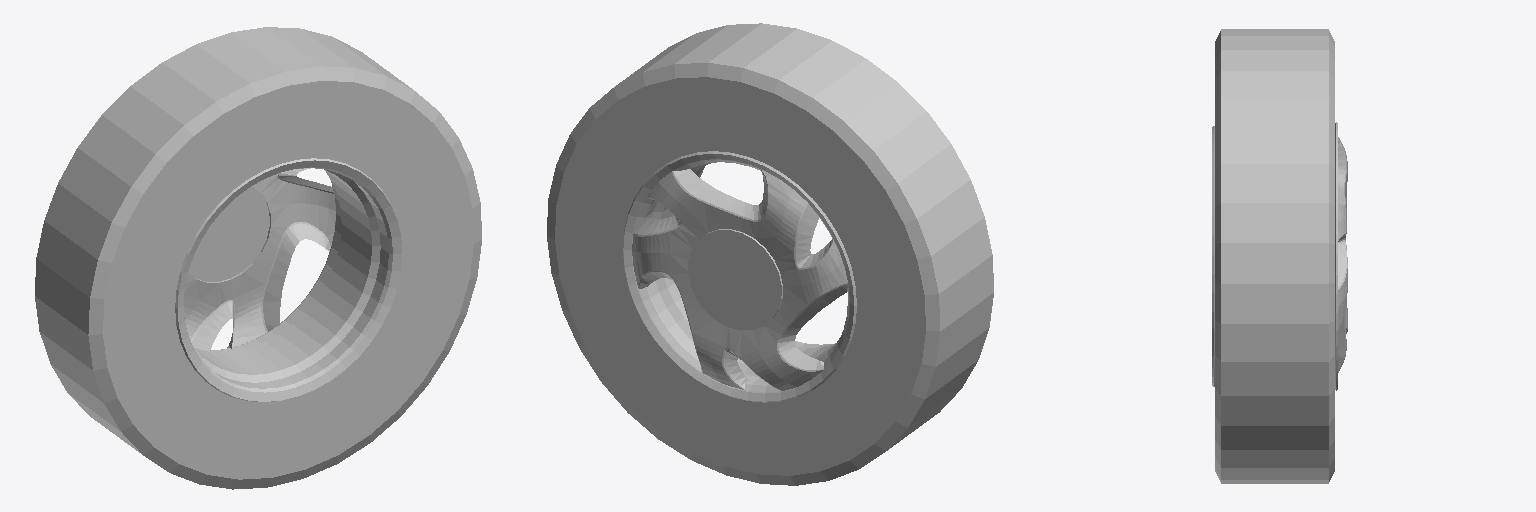
3 views of the same model, side by side, from view 1: azimuth 30°, elevation 25°; view 2: azimuth 150°, elevation 25°; view 3: azimuth 270°, elevation 25° (orthographic).
Parts seen in each view (by area): view 1: H025_10_901C_L_H025_10_901C_L_2_DM, H025_10_901C_L_1_DaS_H025_10_901C_L; view 2: H025_10_901C_L_H025_10_901C_L_2_DM, H025_10_901C_L_1_DaS_H025_10_901C_L; view 3: H025_10_901C_L_H025_10_901C_L_2_DM, H025_10_901C_L_1_DaS_H025_10_901C_L.
Part boxes in pixels (x1,y1,x2,y2): H025_10_901C_L_H025_10_901C_L_2_DM: (35, 27, 481, 489); H025_10_901C_L_1_DaS_H025_10_901C_L: (175, 158, 401, 401); H025_10_901C_L_H025_10_901C_L_2_DM: (547, 23, 993, 485); H025_10_901C_L_1_DaS_H025_10_901C_L: (623, 151, 856, 402); H025_10_901C_L_H025_10_901C_L_2_DM: (1215, 29, 1334, 483); H025_10_901C_L_1_DaS_H025_10_901C_L: (1212, 122, 1347, 390).
Bounding box in the file's own units: 63.17 × 63.11 × 18.86.